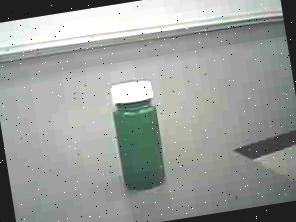Bottle C: (95, 68, 183, 206)
